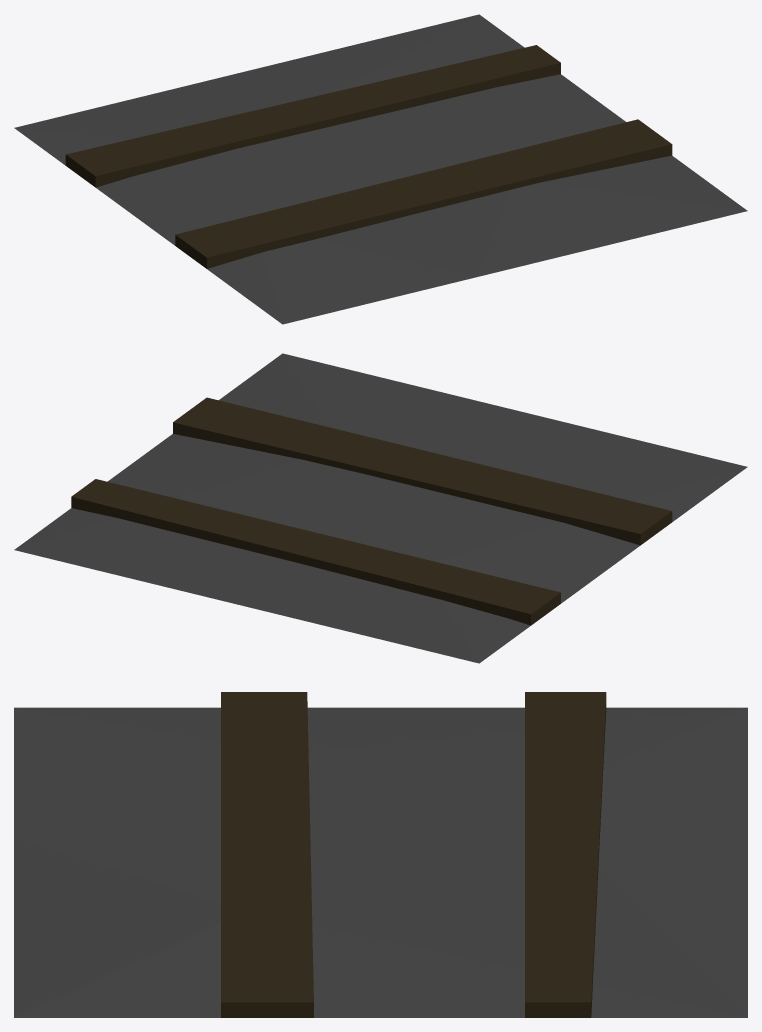
3 renders of one model, top to bottom at view 1: azimuth 30°, elevation 25°; view 2: azimuth 150°, elevation 25°; view 3: azimuth 270°, elevation 25°, orthographic. The views are drawn at different scales.
Visible parts, largest first — view 1: Plane108; view 2: Plane108; view 3: Plane108.
Part boxes in pixels (<box>): Plane108: <box>14,14,747,324</box>; Plane108: <box>14,353,747,663</box>; Plane108: <box>14,692,747,1017</box>.
Size of the model in its own units: 2 by 0.0468 by 2.
